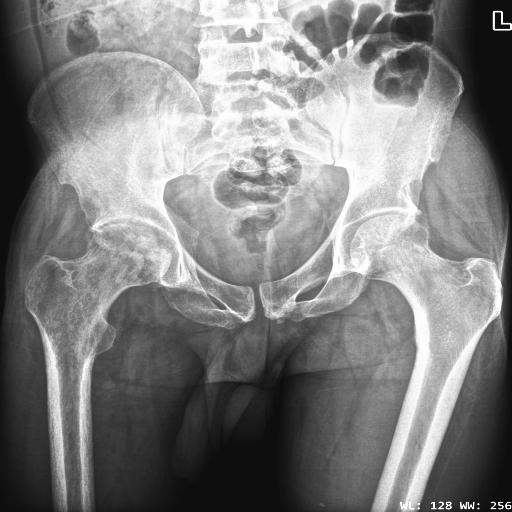normal: (349, 214, 504, 433), (24, 223, 171, 422)
